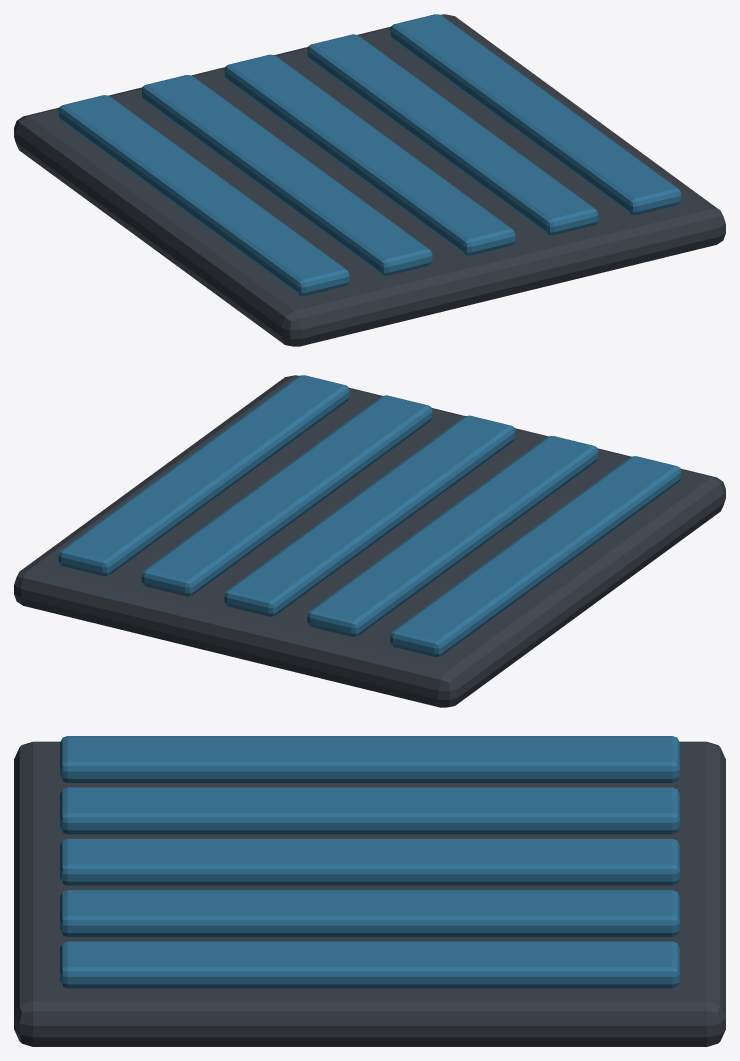
File: Radiator.fbx
The picture shows the model from 3 angles, top to bottom: view 1: azimuth 30°, elevation 25°; view 2: azimuth 150°, elevation 25°; view 3: azimuth 270°, elevation 25°; orthographic projection. The views are drawn at different scales.
Parts seen in each view (by area): view 1: RadiatorFrame_RENDER, RadiatorPanel_2_RENDER, RadiatorPanel_4_RENDER, RadiatorPanel_3_RENDER, RadiatorPanel_0_RENDER, RadiatorPanel_1_RENDER; view 2: RadiatorFrame_RENDER, RadiatorPanel_2_RENDER, RadiatorPanel_4_RENDER, RadiatorPanel_3_RENDER, RadiatorPanel_0_RENDER, RadiatorPanel_1_RENDER; view 3: RadiatorFrame_RENDER, RadiatorPanel_1_RENDER, RadiatorPanel_2_RENDER, RadiatorPanel_4_RENDER, RadiatorPanel_0_RENDER, RadiatorPanel_3_RENDER.
Part boxes in pixels (bbox=[...]): RadiatorFrame_RENDER: bbox=[14, 14, 725, 346]; RadiatorPanel_2_RENDER: bbox=[224, 54, 515, 255]; RadiatorPanel_4_RENDER: bbox=[390, 14, 681, 215]; RadiatorPanel_3_RENDER: bbox=[307, 34, 598, 235]; RadiatorPanel_0_RENDER: bbox=[58, 95, 349, 295]; RadiatorPanel_1_RENDER: bbox=[141, 75, 432, 275]; RadiatorFrame_RENDER: bbox=[14, 375, 725, 707]; RadiatorPanel_2_RENDER: bbox=[224, 415, 515, 616]; RadiatorPanel_4_RENDER: bbox=[58, 375, 349, 576]; RadiatorPanel_3_RENDER: bbox=[141, 395, 432, 596]; RadiatorPanel_0_RENDER: bbox=[390, 456, 681, 656]; RadiatorPanel_1_RENDER: bbox=[307, 436, 598, 636]; RadiatorFrame_RENDER: bbox=[14, 741, 725, 1046]; RadiatorPanel_1_RENDER: bbox=[60, 787, 679, 834]; RadiatorPanel_2_RENDER: bbox=[60, 838, 679, 885]; RadiatorPanel_4_RENDER: bbox=[60, 941, 679, 988]; RadiatorPanel_0_RENDER: bbox=[60, 736, 679, 782]; RadiatorPanel_3_RENDER: bbox=[60, 890, 679, 936].
Size of the model in its own units: 1.55 by 0.1725 by 1.7.
